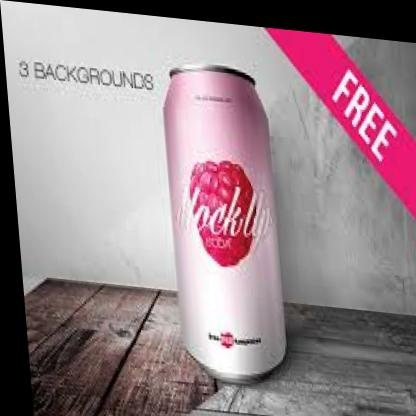trash: (164, 66, 285, 382)
